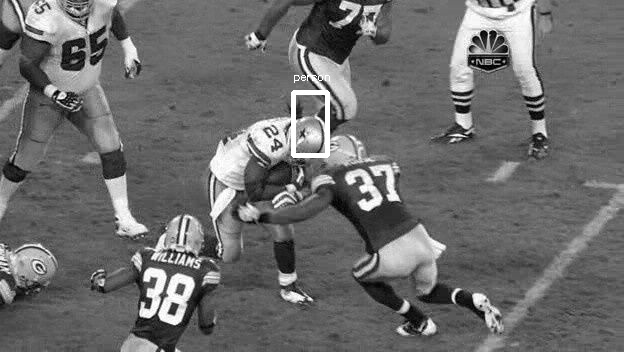person: (288, 116, 322, 159), (287, 116, 321, 159), (289, 116, 323, 159), (288, 115, 322, 158), (288, 117, 322, 160)
target_negative: (333, 111, 601, 345), (197, 137, 529, 206), (23, 131, 61, 313), (365, 163, 566, 181), (17, 323, 98, 349), (551, 318, 559, 328)
